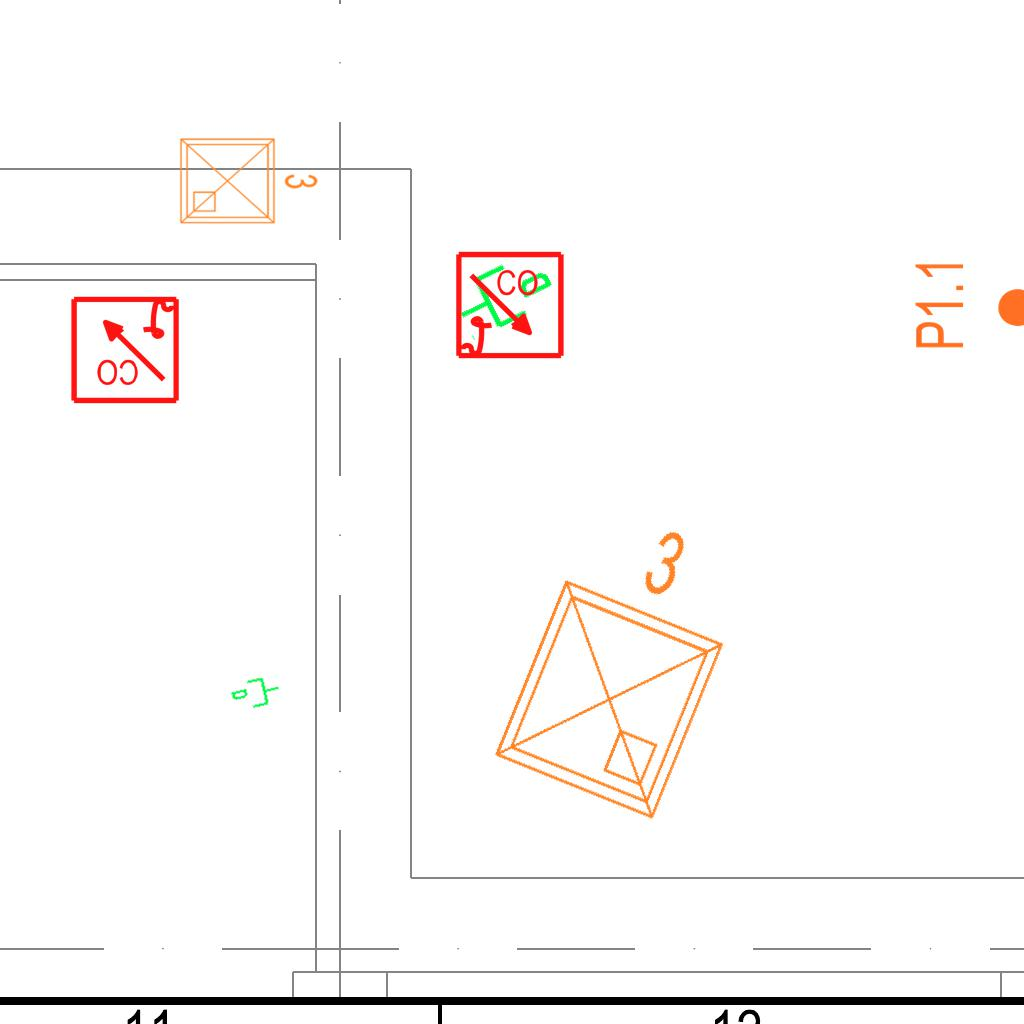Datenanschluss_einfach: (443, 240, 564, 346), (227, 671, 285, 717)
Downlight_LED_Einbauleuchten_Flur: (912, 258, 1024, 351)
Einbaudownlights_LED_Konferenzraeume: (468, 481, 774, 839), (173, 127, 323, 231)
ROA_Rauchmelder_optisch_mit_Signalgeber_(Sockelsirene): (68, 292, 181, 405), (454, 250, 567, 363)
